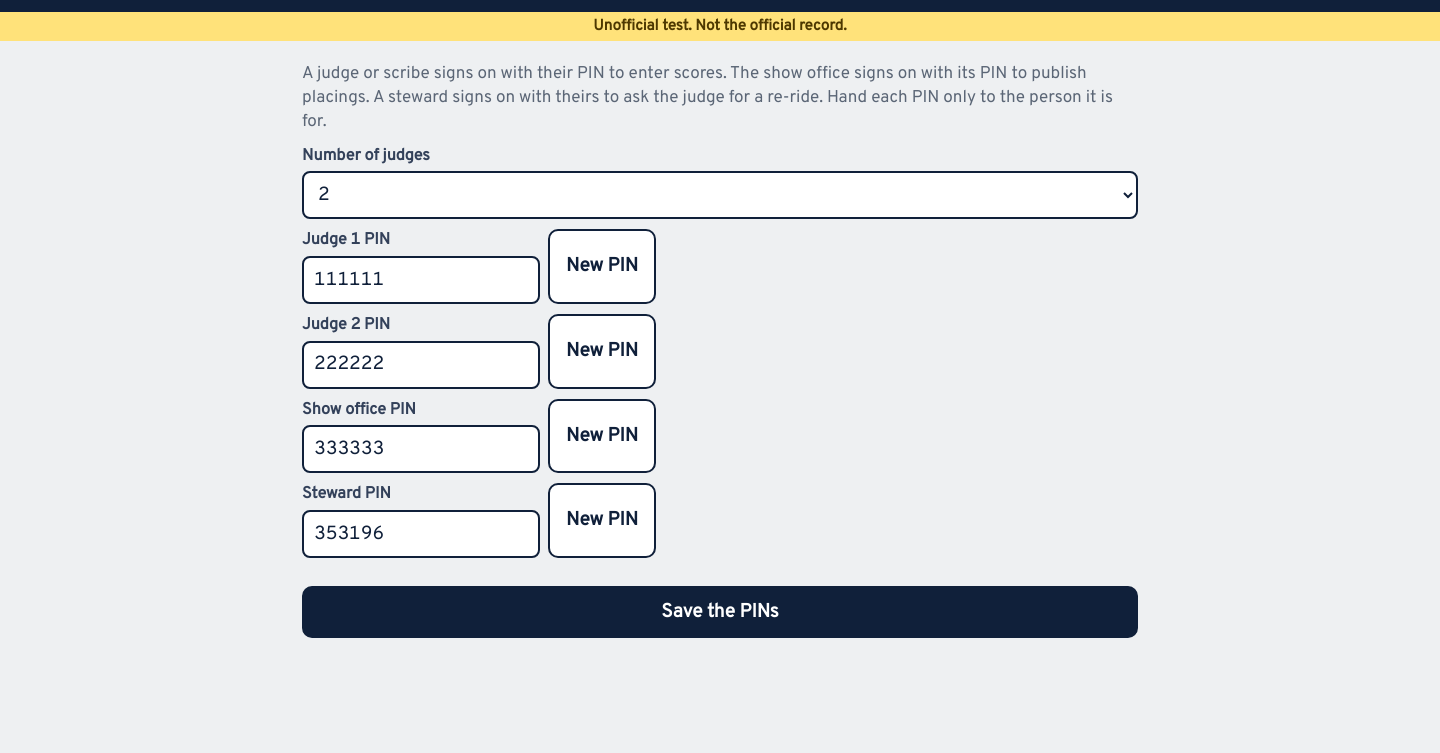
a show admin sets the judges and their PINs › sets two judges with separate PINs and saves them
Select "3" in the dropdown labelled "Number of judges" at (720,196), box [302,172,1138,220]
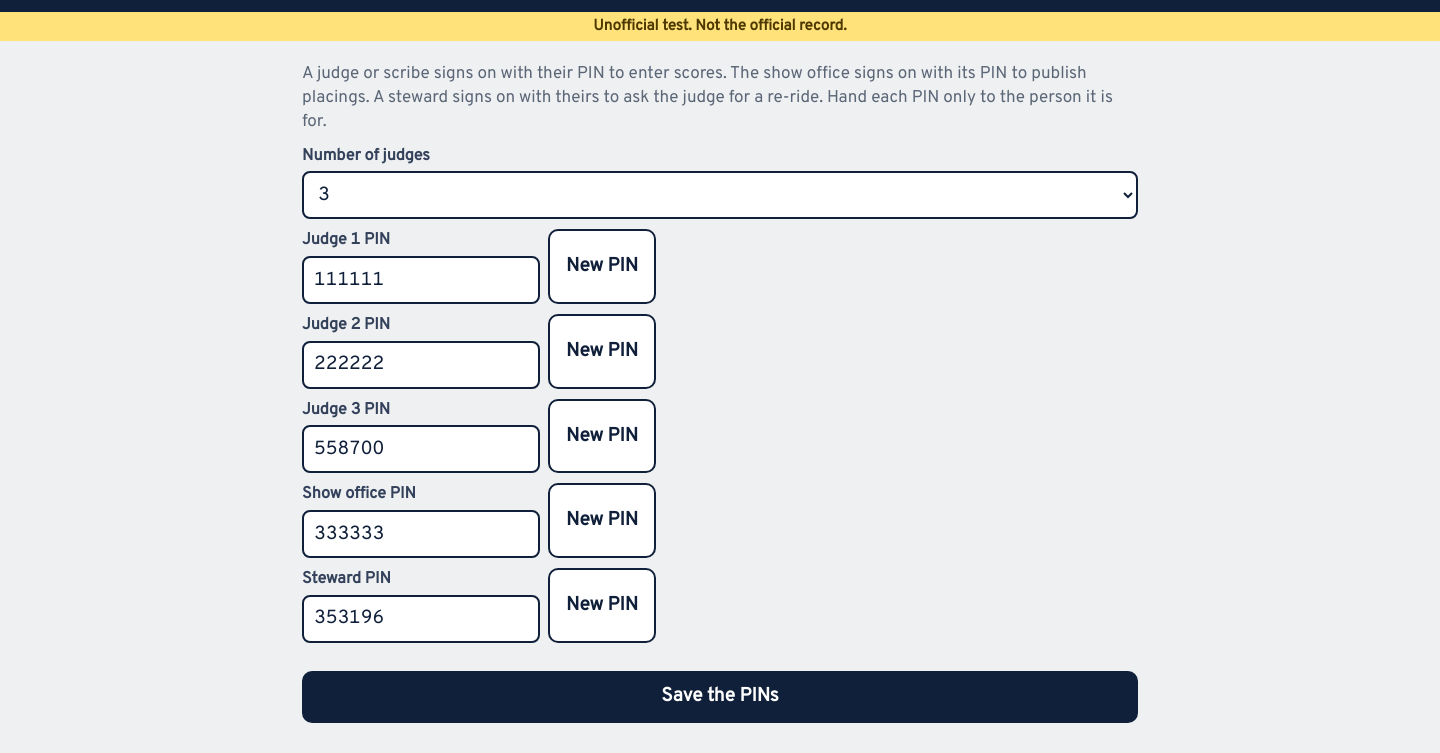
Replace the text in the field labelled "Judge 2 PIN" with "424242" at (421,365), box [302,341,540,389]
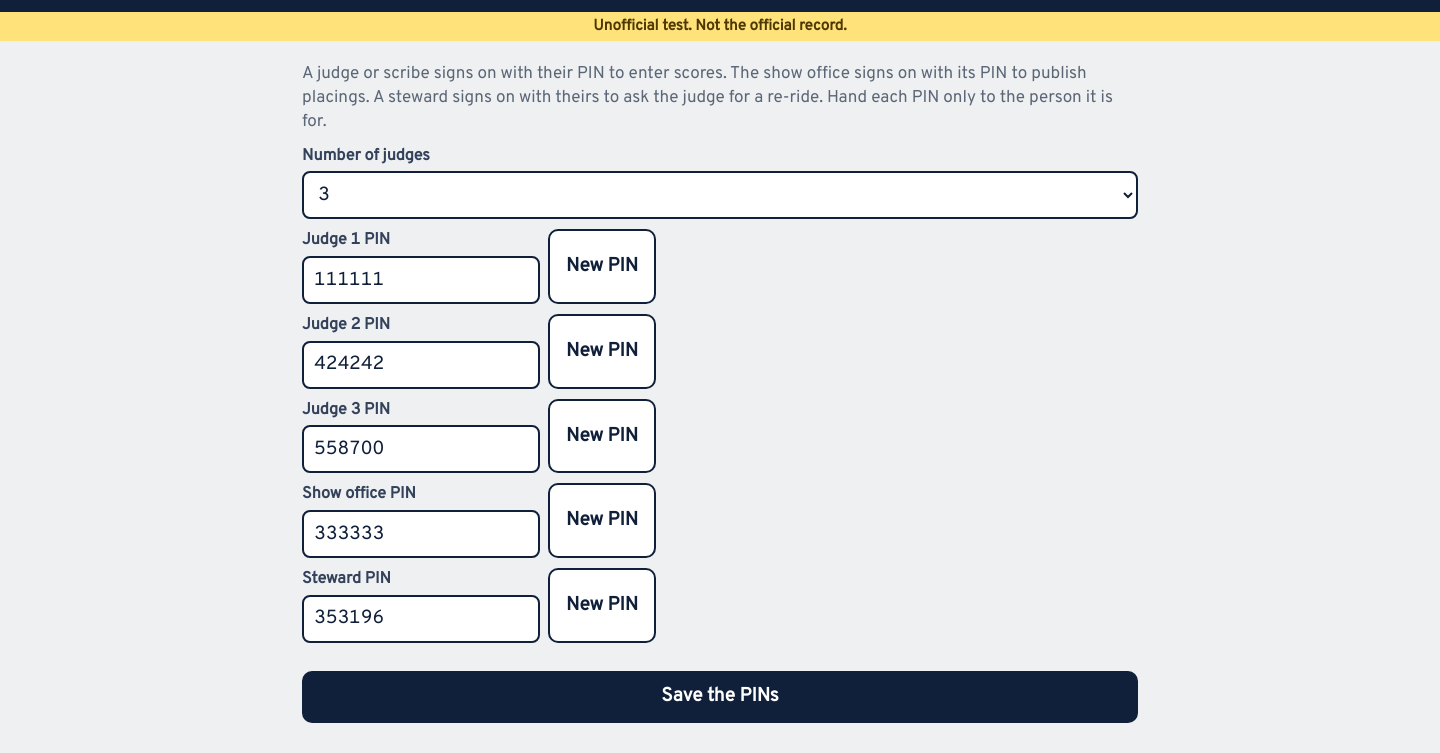
Click the button "Save the PINs".
click(720, 696)  # box [302,670,1138,722]
(page scrolled)
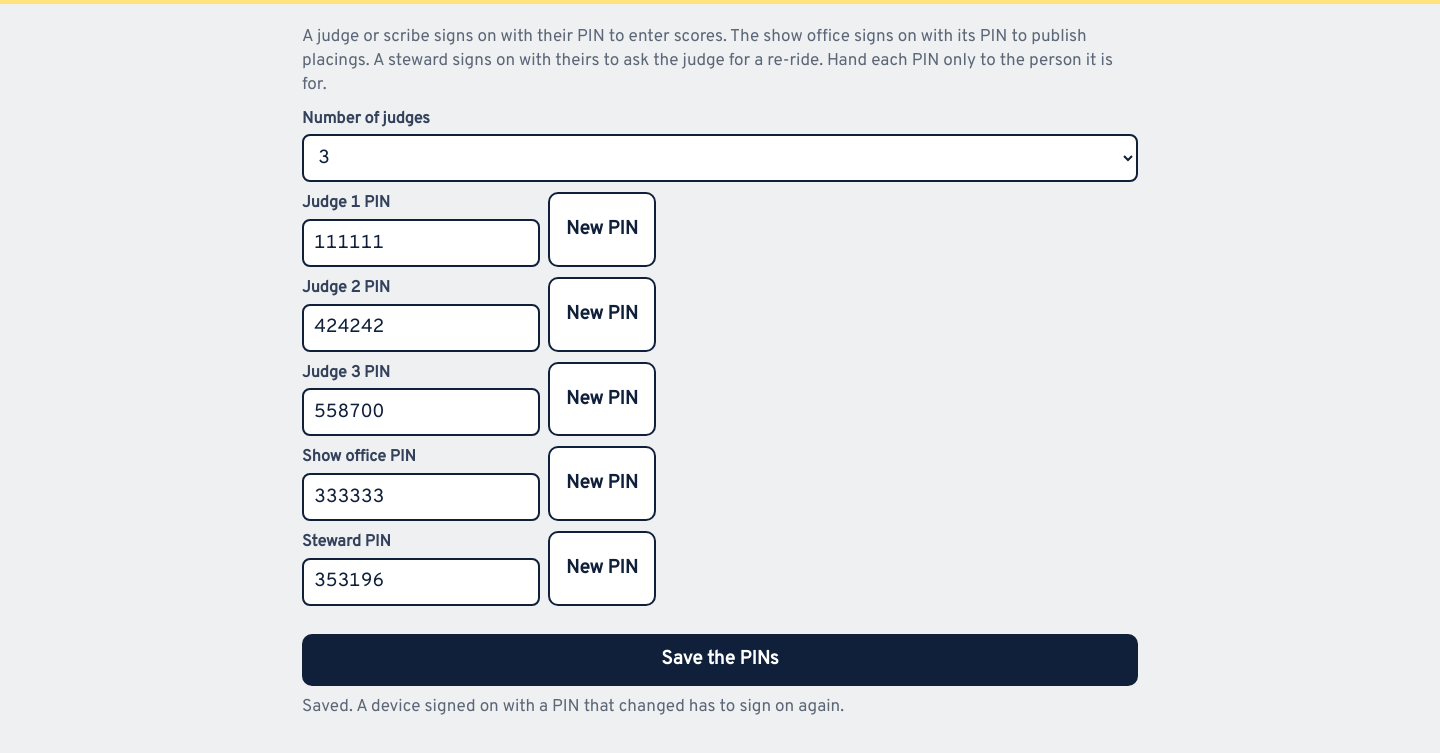
Expected: the text "Saved. A device signed on with a PIN that changed has to sign on again." is shown, [302,696,844,718]
